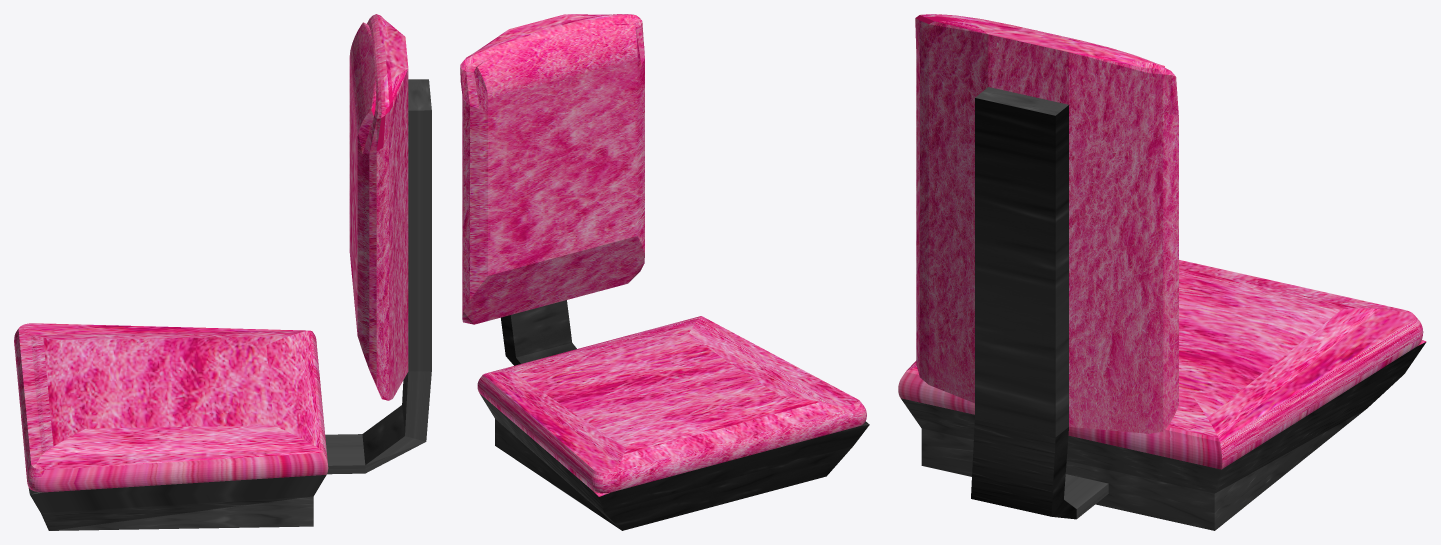
Rendered from Silla_sup.obj.
3 views of the same model, side by side, from view 1: azimuth 30°, elevation 25°; view 2: azimuth 150°, elevation 25°; view 3: azimuth 270°, elevation 25° (orthographic). The views are drawn at different scales.
Visible parts, largest first — view 1: Silla_superior_Cube.071_Silla_tela, Silla_superior_Cube.071_Negro_plastico; view 2: Silla_superior_Cube.071_Silla_tela, Silla_superior_Cube.071_Negro_plastico; view 3: Silla_superior_Cube.071_Silla_tela, Silla_superior_Cube.071_Negro_plastico.
Part boxes in pixels (bbox=[...]): Silla_superior_Cube.071_Silla_tela: bbox=[14, 14, 408, 492]; Silla_superior_Cube.071_Negro_plastico: bbox=[28, 79, 431, 530]; Silla_superior_Cube.071_Silla_tela: bbox=[460, 14, 866, 496]; Silla_superior_Cube.071_Negro_plastico: bbox=[480, 300, 869, 530]; Silla_superior_Cube.071_Silla_tela: bbox=[898, 14, 1426, 469]; Silla_superior_Cube.071_Negro_plastico: bbox=[901, 87, 1426, 530].
Size of the model in its own units: 1.09 by 1.05 by 0.9957.
